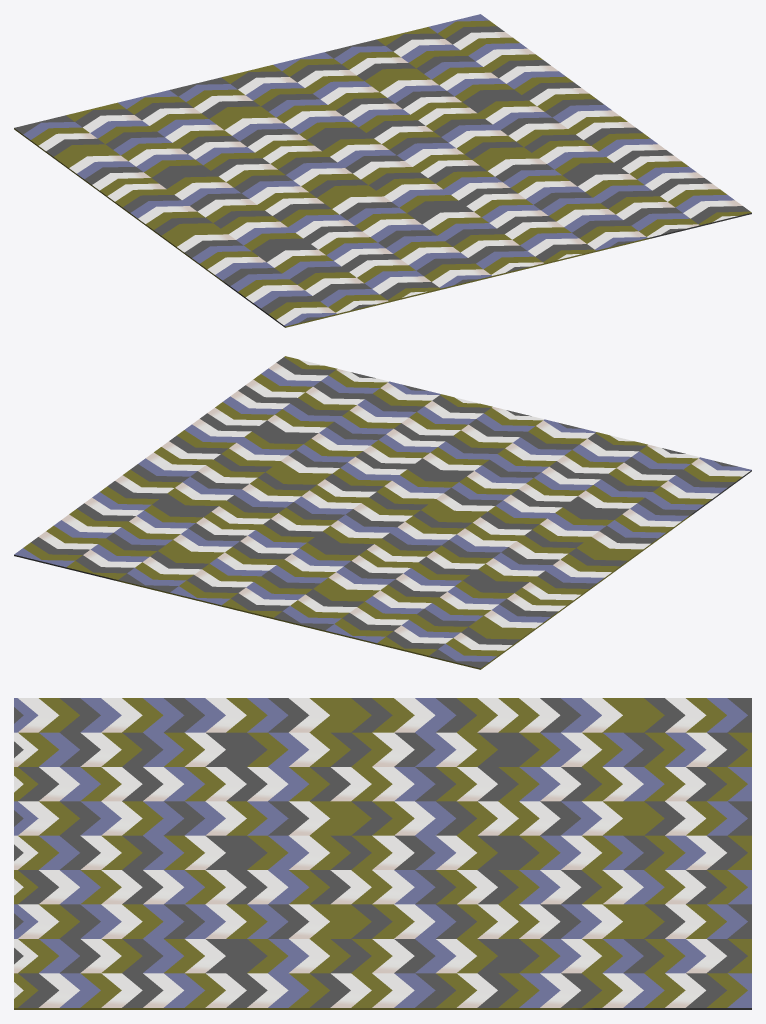
Rendered from Yogaroom_floor.fbx.
The picture shows the model from 3 angles, top to bottom: view 1: azimuth 30°, elevation 25°; view 2: azimuth 150°, elevation 25°; view 3: azimuth 270°, elevation 25°; orthographic projection. The views are drawn at different scales.
Parts seen in each view (by area): view 1: Yogaroom_floor; view 2: Yogaroom_floor; view 3: Yogaroom_floor.
Part boxes in pixels (x1=…): Yogaroom_floor: x1=14, y1=14, x2=751, y2=327; Yogaroom_floor: x1=14, y1=356, x2=751, y2=669; Yogaroom_floor: x1=14, y1=698, x2=751, y2=1009.
Size of the model in its own units: 489 by 1.42 by 492.
